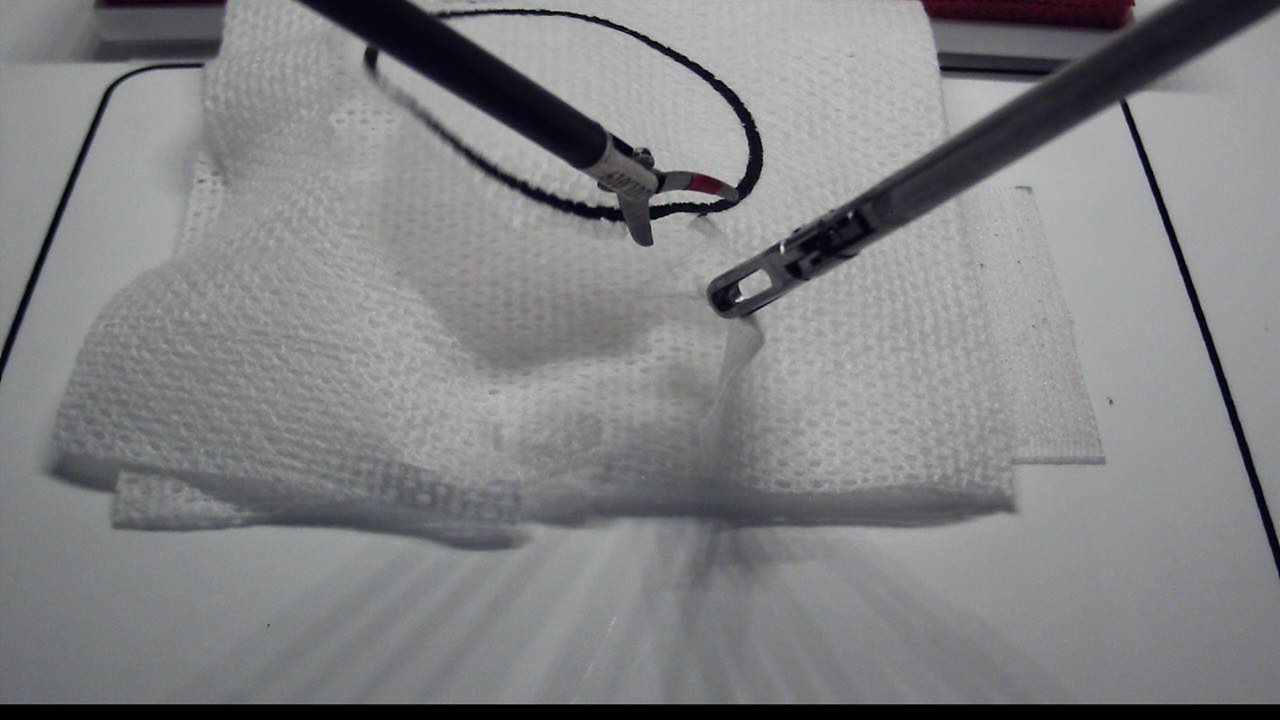Circle: (363, 6, 764, 217)
Grasper: (706, 240, 837, 322)
Scissor: (620, 168, 741, 246)
